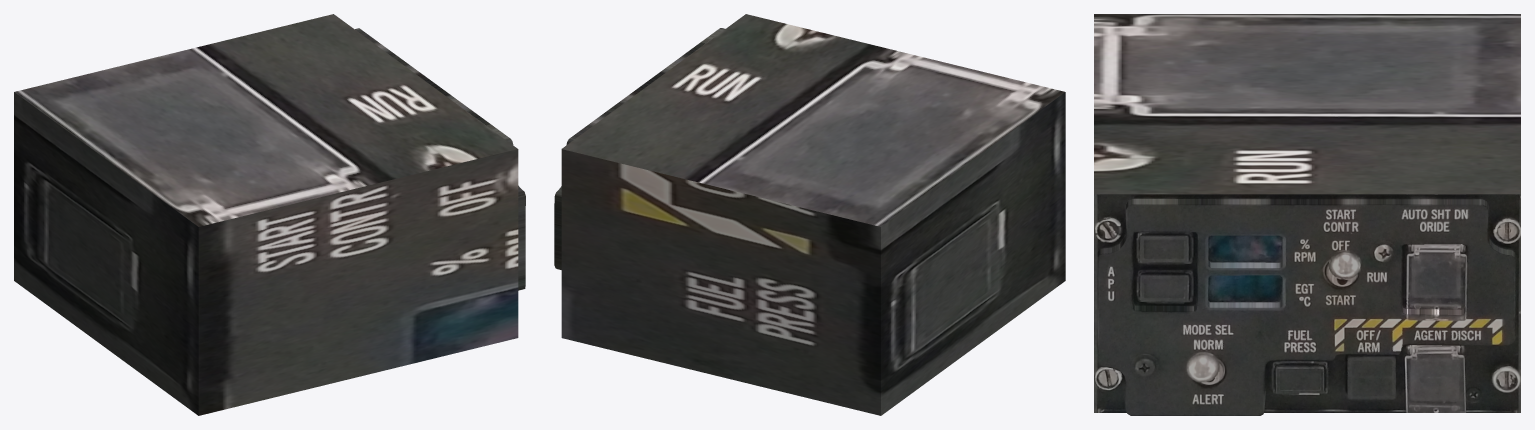
Rendered from APU Panel.obj.
The picture shows the model from 3 angles, left to right: view 1: azimuth 30°, elevation 25°; view 2: azimuth 150°, elevation 25°; view 3: azimuth 270°, elevation 25°; orthographic projection. The views are drawn at different scales.
Visible parts, largest first — view 1: APU_Panel_Cube; view 2: APU_Panel_Cube; view 3: APU_Panel_Cube.
Part boxes in pixels (x1,y1,x2,y2): APU_Panel_Cube: (14, 14, 525, 415); APU_Panel_Cube: (554, 14, 1065, 415); APU_Panel_Cube: (1094, 14, 1520, 415).
Bounding box in the file's own units: 2.06 × 1.13 × 2.
